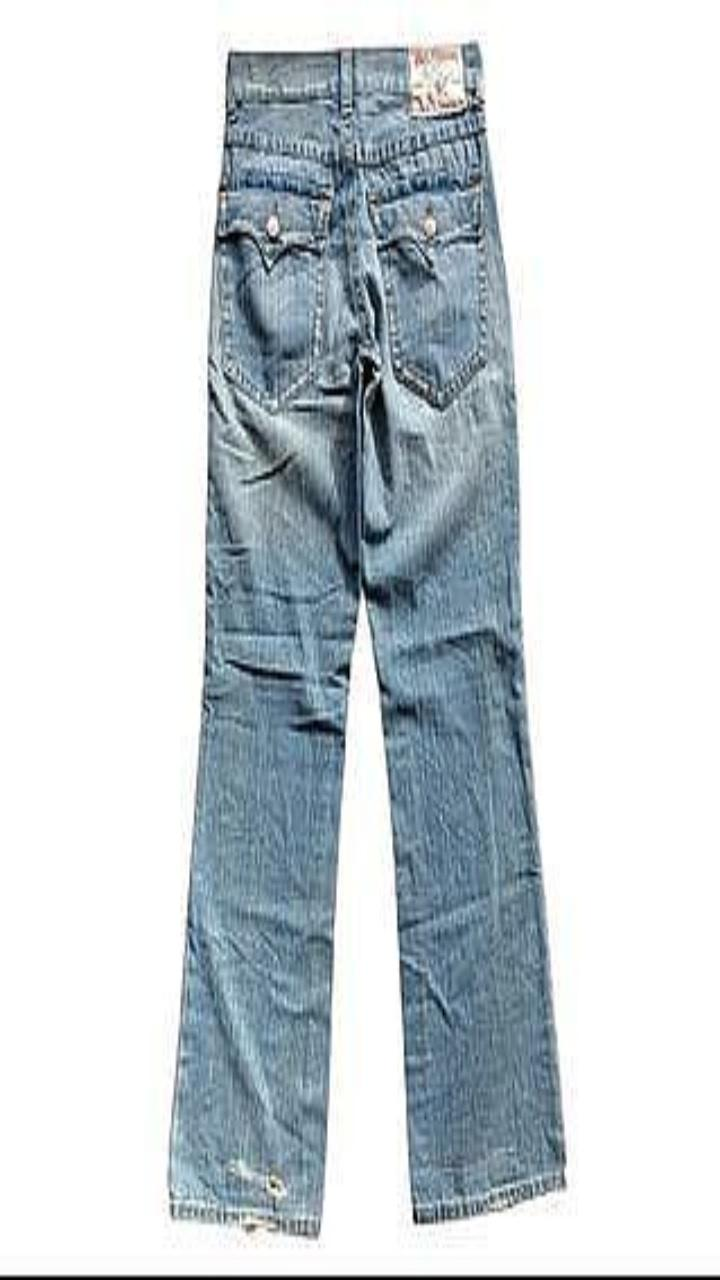Jeans: (170, 42, 564, 1235)
